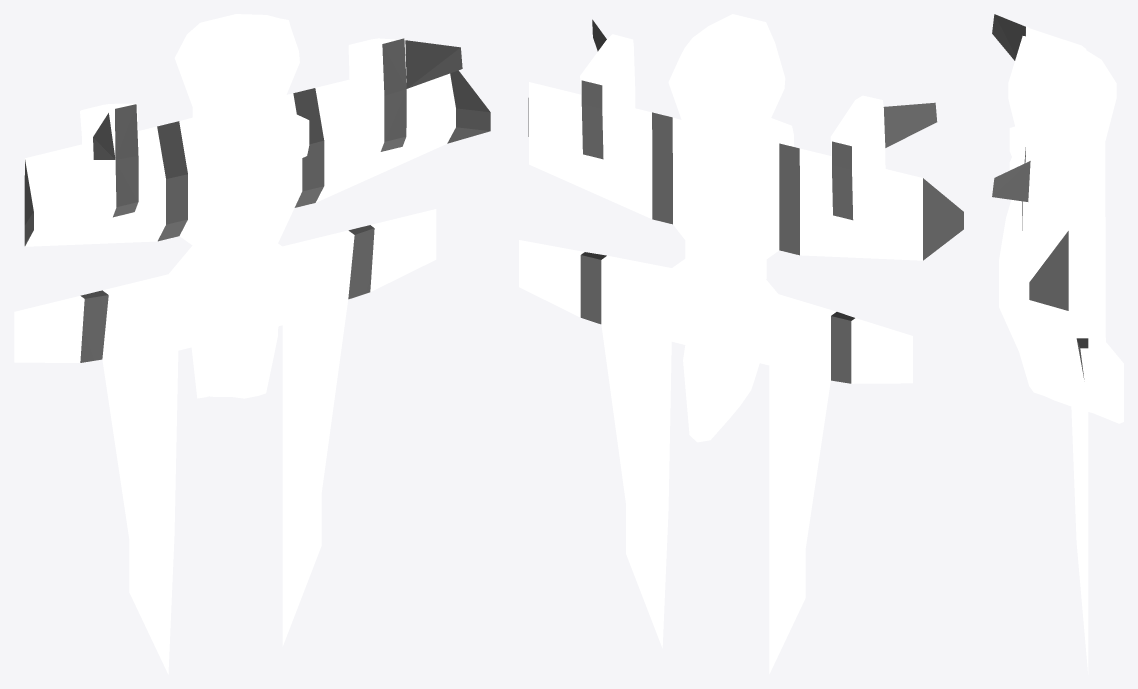
Rendered from ship_04_13005.glb.
3 views of the same model, side by side, from view 1: azimuth 30°, elevation 25°; view 2: azimuth 150°, elevation 25°; view 3: azimuth 270°, elevation 25° (orthographic). The views are drawn at different scales.
Visible parts, largest first — view 1: group_19; view 2: group_19; view 3: group_19.
Part boxes in pixels (x1,y1,x2,y2): group_19: [14, 14, 490, 674]; group_19: [519, 14, 963, 673]; group_19: [992, 14, 1123, 674].
Bounding box in the file's own units: 1058 × 1439 × 284.
2 materials, 2 textured.
